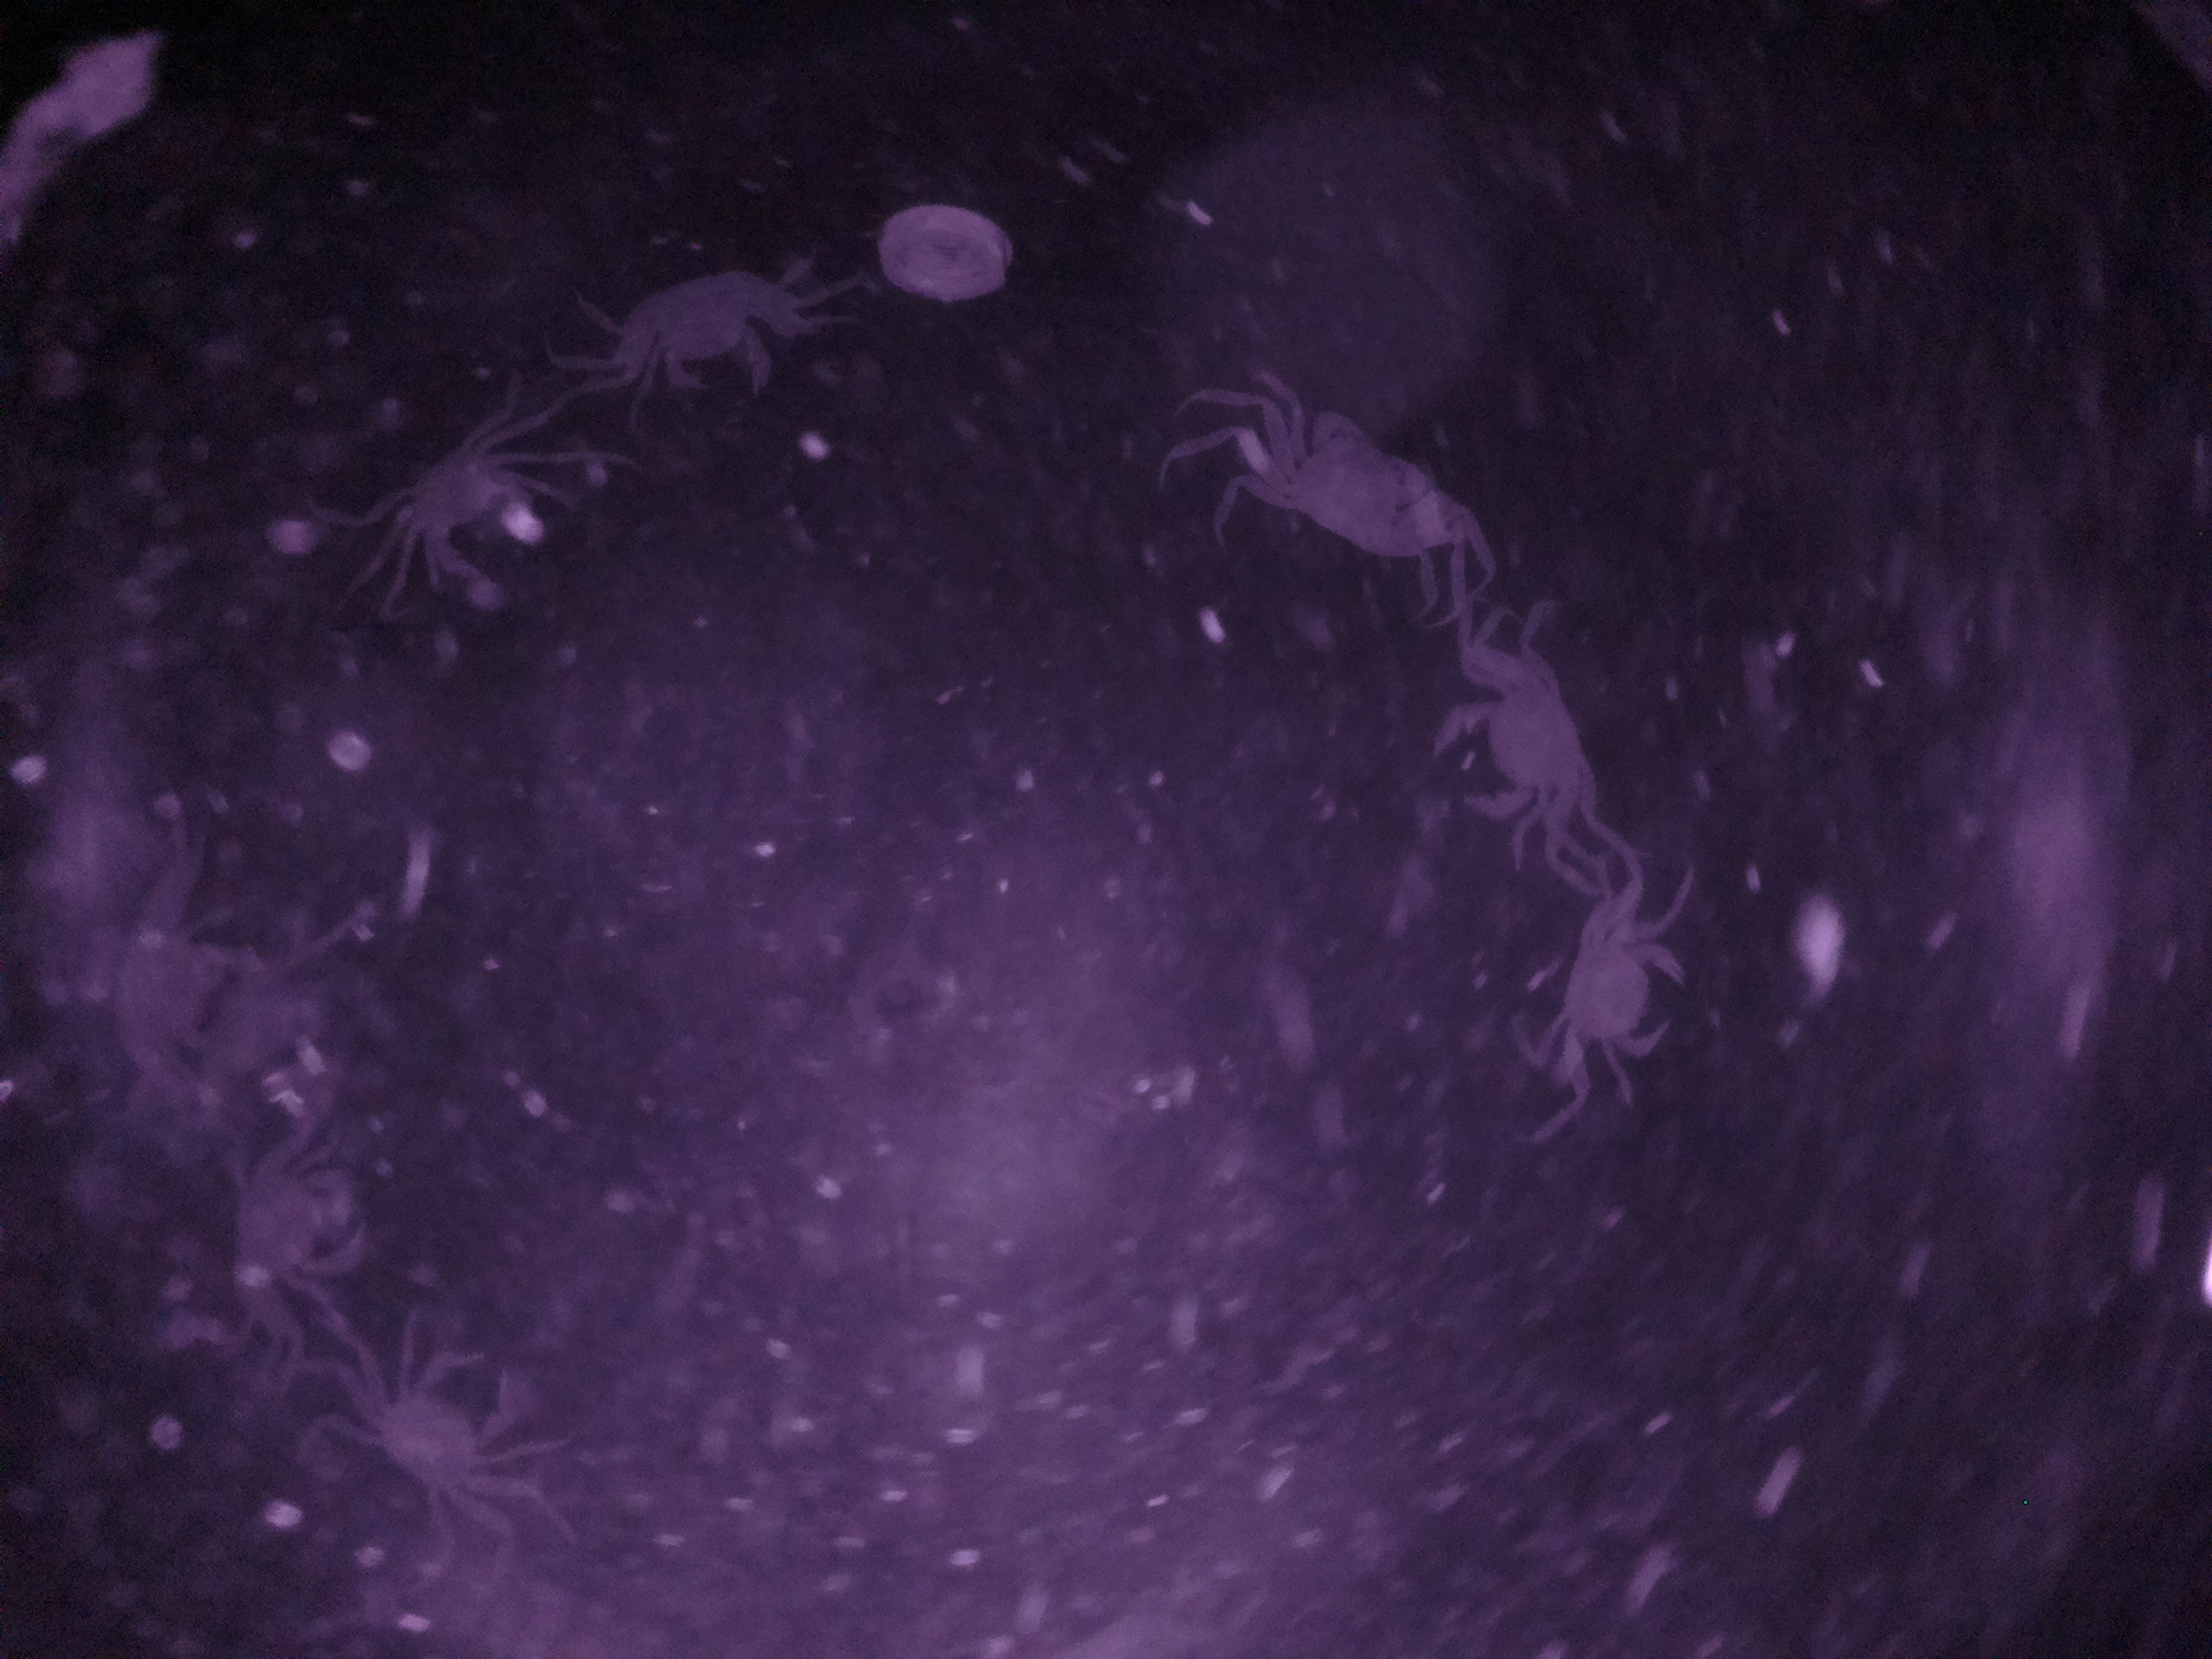Crab: (1204, 387, 1501, 599), (592, 249, 848, 439), (1426, 638, 1622, 863), (362, 415, 577, 603), (1541, 856, 1702, 1098)
